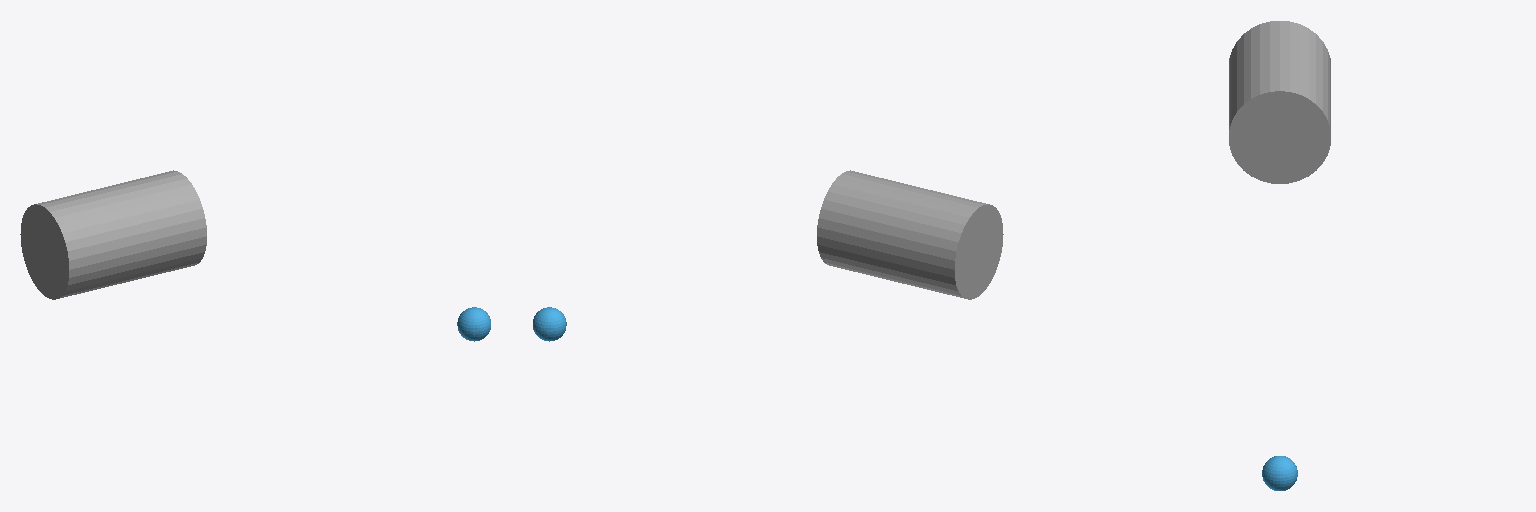
The robot description file, URDF, robot "hook_hand":
<?xml version="1.0" ?>
<robot name="hook_hand">
    <link name = 'base_link'/>
    <joint name="ee_x" type="prismatic">
        <origin rpy="0 0 0" xyz="0 0 0"/>
        <parent link="base_link"/>
        <child link="ee_x_link"/>
        <axis xyz="1 0 0"/>
        <limit effort="100.0" lower="-2.0" upper="2.0" velocity="0.1"/>
    </joint>
    <link name = 'ee_x_link'/>
    <joint name="ee_y" type="prismatic">
        <origin rpy="0 0 0" xyz="0 0 0"/>
        <parent link="ee_x_link"/>
        <child link="ee_y_link"/>
        <axis xyz="0 1 0"/>
        <limit effort="100.0" lower="-2.0" upper="2.0" velocity="0.1"/>
    </joint>
    <link name = 'ee_y_link'/>
    <joint name="ee_z" type="prismatic">
        <origin rpy="0 0 0" xyz="0 0 0"/>
        <parent link="ee_y_link"/>
        <child link="ee_z_link"/>
        <axis xyz="0 0 1"/>
        <limit effort="100.0" lower="-2.0" upper="2.0" velocity="0.1"/>
    </joint>
    <link name = 'ee_z_link'/>
    <joint name="ee_rz" type="revolute">
        <origin rpy="0 0 0" xyz="0 0 0"/>
        <parent link="ee_z_link"/>
        <child link="ee_rz_link"/>
        <axis xyz="0 0 1"/>
        <limit effort="100.0" lower="-6.28" upper="6.28" velocity="0.1"/>
    </joint>
    <link name = 'ee_rz_link'/>
    <joint name="ee_ry" type="revolute">
        <origin rpy="0 0 0" xyz="0 0 0"/>
        <parent link="ee_rz_link"/>
        <child link="ee_ry_link"/>
        <axis xyz="0 1 0"/>
        <limit effort="100.0" lower="-6.28" upper="6.28" velocity="0.1"/>
    </joint>
    <link name = 'ee_ry_link'/>
    <joint name="ee_rx" type="revolute">
        <origin rpy="0 0 0" xyz="0 0 0"/>
        <parent link="ee_ry_link"/>
        <child link="ee_rx_link"/>
        <axis xyz="1 0 0"/>
        <limit effort="100.0" lower="-6.28" upper="6.28" velocity="0.1"/>
    </joint>
    <link name="ee_rx_link"/>
    <joint name="ee2hand_joint" type="fixed">
        <origin rpy="0 1.57 0" xyz="0 0 0"/>
        <parent link="ee_rx_link"/>
        <child link="hand_base"/>
    </joint>
    <link name="hand_base">
        <visual>
            <geometry>
                <cylinder length="0.065" radius="0.02"/>
            </geometry>
        </visual>
        <collision>
            <geometry>
                <cylinder length="0.065" radius="0.031"/>
            </geometry>
        </collision>
    </link>
    <joint name="hand2hook" type="fixed">
        <origin rpy="-1.57 0 -1.57" xyz="-0.031 0.031 0.0425"/>
        <parent link="hand_base"/>
        <child link="hook"/>
    </joint>
    <link name="hook">
        <visual>
          <origin xyz="0.031 0.01 0.031" rpy="3.14159265 0 1.57"/>
          <geometry>
              <mesh filename="./meshes/ur3/visual/hook4door_sagano_san.dae" scale="0.001 0.001 0.001" />
          </geometry>
      </visual>        <collision>
            <geometry>
                <mesh filename="./meshes/ur3/visual/hook4door_v3.obj"/>
            </geometry>
            <origin rpy="1.57 0 0" xyz="0 0 0"/>
        </collision>
    </link>
    <joint name='hook_finger' type='fixed'>
        <origin rpy="0 -1.57 0" xyz="0.08 0 0.17"/>
        <parent link='hand_base'/>
        <child link='hook_finger'/>
    </joint >
    <link name='hook_finger'>
        <visual>
            <geometry>
                <sphere radius='0.007'/>
            </geometry>
        </visual>
    </link>
</robot>

--- Facts derived from the render (not from the file) ---
The picture shows the robot from 3 angles, left to right: view 1: azimuth 30°, elevation 25°; view 2: azimuth 150°, elevation 25°; view 3: azimuth 270°, elevation 25°; orthographic projection.
Robot: hook_hand — 10 links, 9 joints (3 revolute, 3 prismatic, 3 fixed); root link base_link; default pose: all joints at 0.
Visible links, largest first — view 1: hand_base, hook_finger; view 2: hand_base, hook_finger; view 3: hand_base, hook_finger.
Link boxes in pixels (x1,y1,x2,y2): hand_base: (20,170,206,299); hook_finger: (457,307,490,341); hand_base: (817,170,1003,299); hook_finger: (533,307,566,341); hand_base: (1229,21,1330,183); hook_finger: (1262,456,1297,490).
Bounding box of the posed robot: 0.2096 × 0.04 × 0.1069 m (x, y, z).
0 mesh visuals loaded from 1 distinct referenced files (none loaded); not drawn: 1 (reference not matched to a file when rendering).
